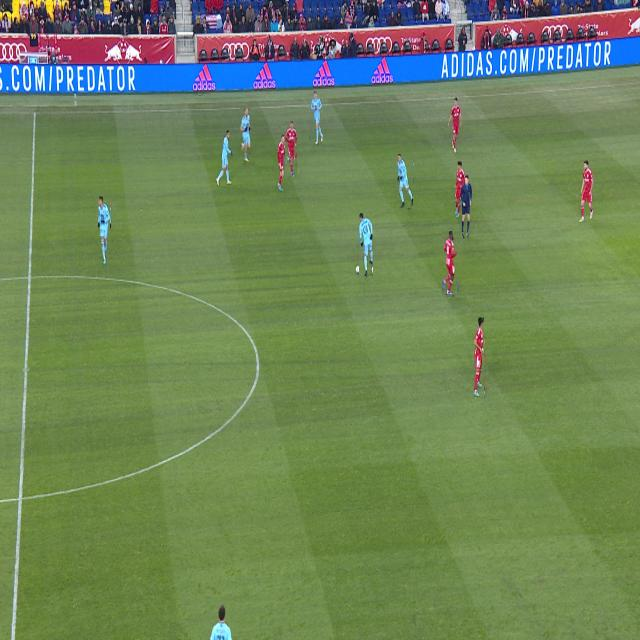football: (355, 264, 360, 275)
player: (216, 130, 233, 186), (443, 231, 457, 295), (359, 213, 373, 276), (579, 161, 593, 222), (398, 155, 413, 208), (210, 606, 232, 640), (99, 197, 110, 265), (448, 98, 461, 153), (475, 318, 484, 397), (285, 121, 297, 177), (311, 92, 323, 145), (454, 161, 465, 218), (240, 109, 251, 162), (278, 135, 288, 191)
referee: (460, 175, 472, 238)
